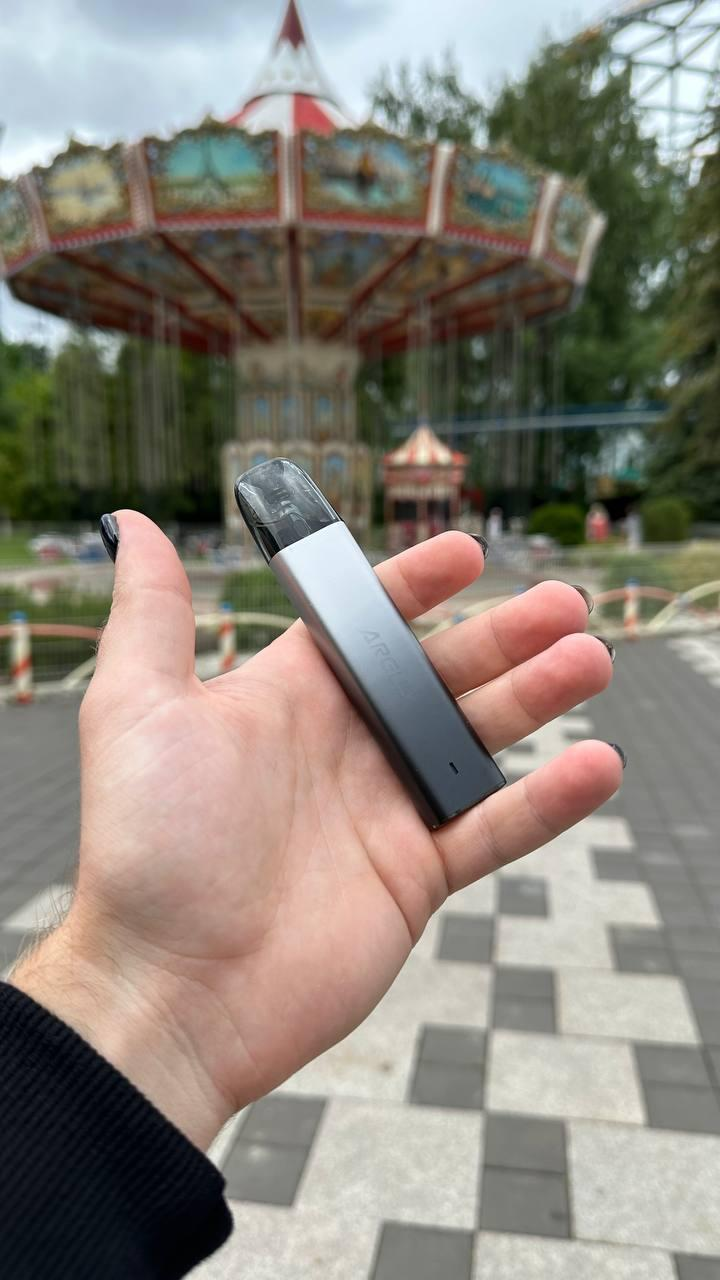Vape: (234, 459, 506, 828)
